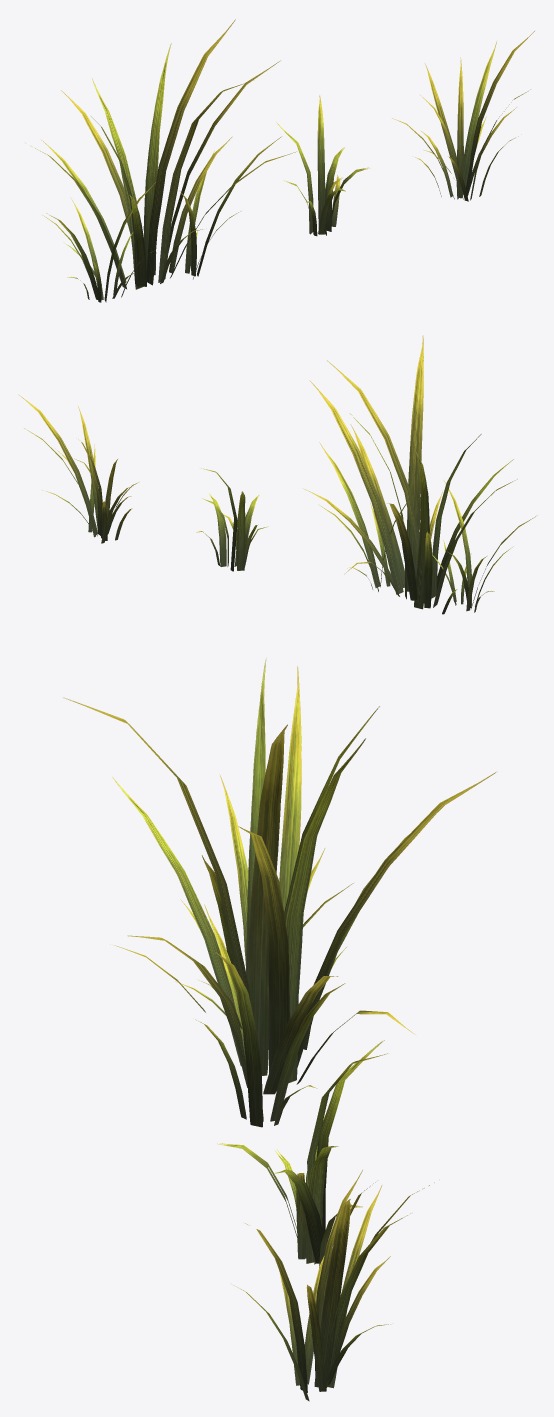
Rendered from d_1000_cao.FBX.
3 renders of one model, top to bottom at view 1: azimuth 30°, elevation 25°; view 2: azimuth 150°, elevation 25°; view 3: azimuth 270°, elevation 25°, orthographic. The views are drawn at different scales.
Parts seen in each view (by area): view 1: Plane059, Plane080, Plane029; view 2: Plane059, Plane080, Plane029; view 3: Plane059, Plane080, Plane029.
Part boxes in pixels (x1,y1,x2,y2): Plane059: (30, 19, 296, 302); Plane080: (392, 31, 534, 201); Plane029: (275, 95, 370, 236); Plane059: (303, 335, 537, 614); Plane080: (18, 394, 138, 543); Plane029: (196, 468, 268, 571); Plane059: (63, 657, 497, 1127); Plane080: (233, 1170, 434, 1401); Plane029: (217, 1040, 387, 1267).
Bounding box in the file's own units: 50.11 × 22.19 × 20.03.
